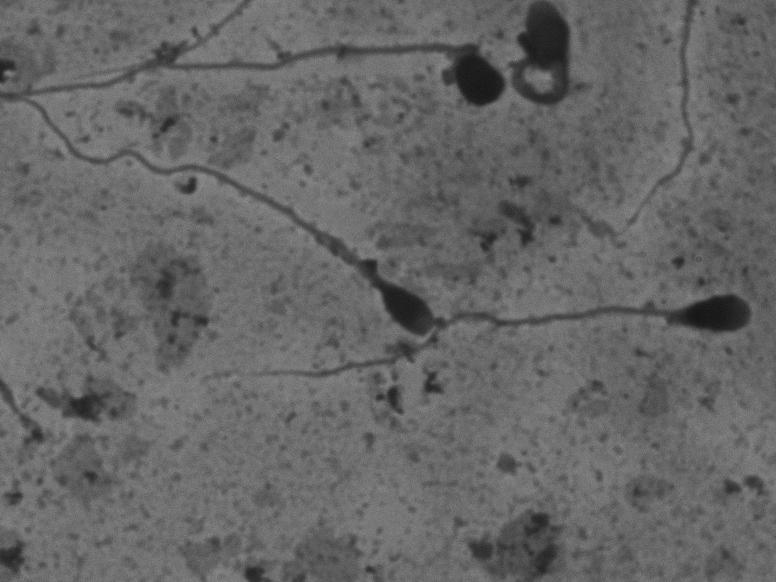Abnormal: (16, 113, 444, 342), (189, 282, 766, 409), (52, 26, 507, 116)
